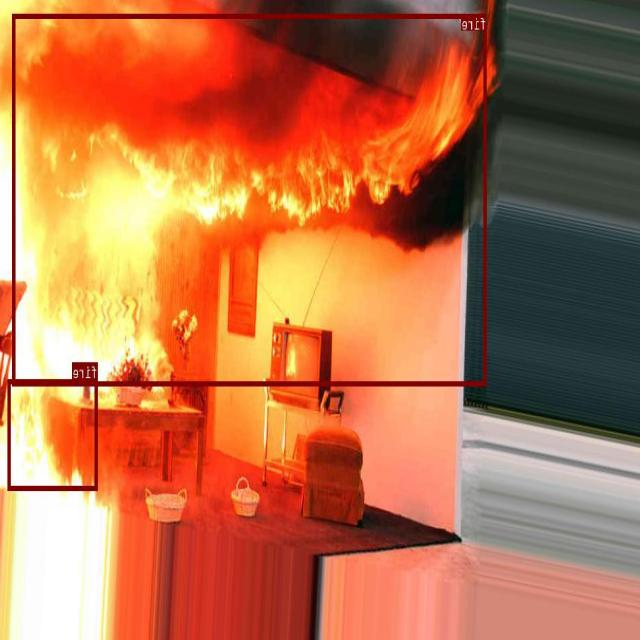fire: (13, 13, 487, 385), (8, 379, 98, 489)
